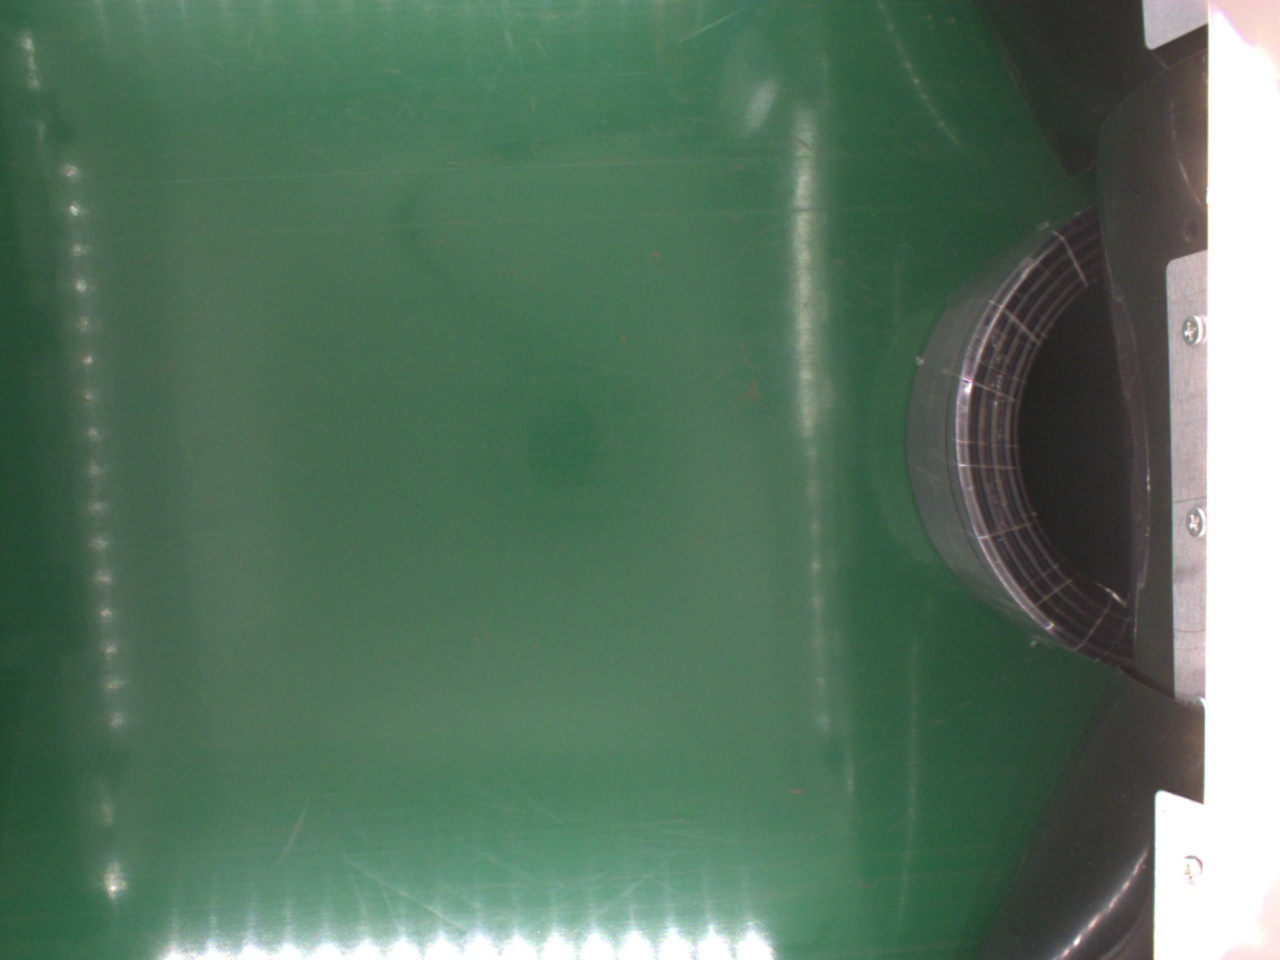black: (913, 211, 1142, 675)
